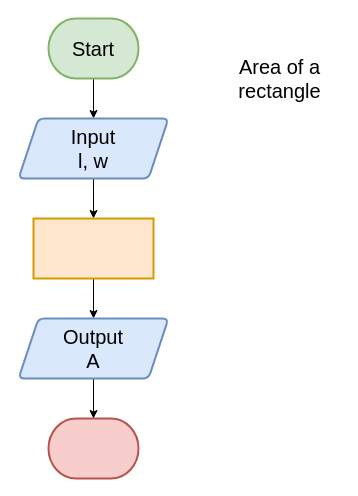
The diagram is 358 pixels wide and 496 high, and some of its shapes have lost their labels. Each missing label, with the centre of its shape:
Calculate A = l x w: point 93,248
End: point 93,448
